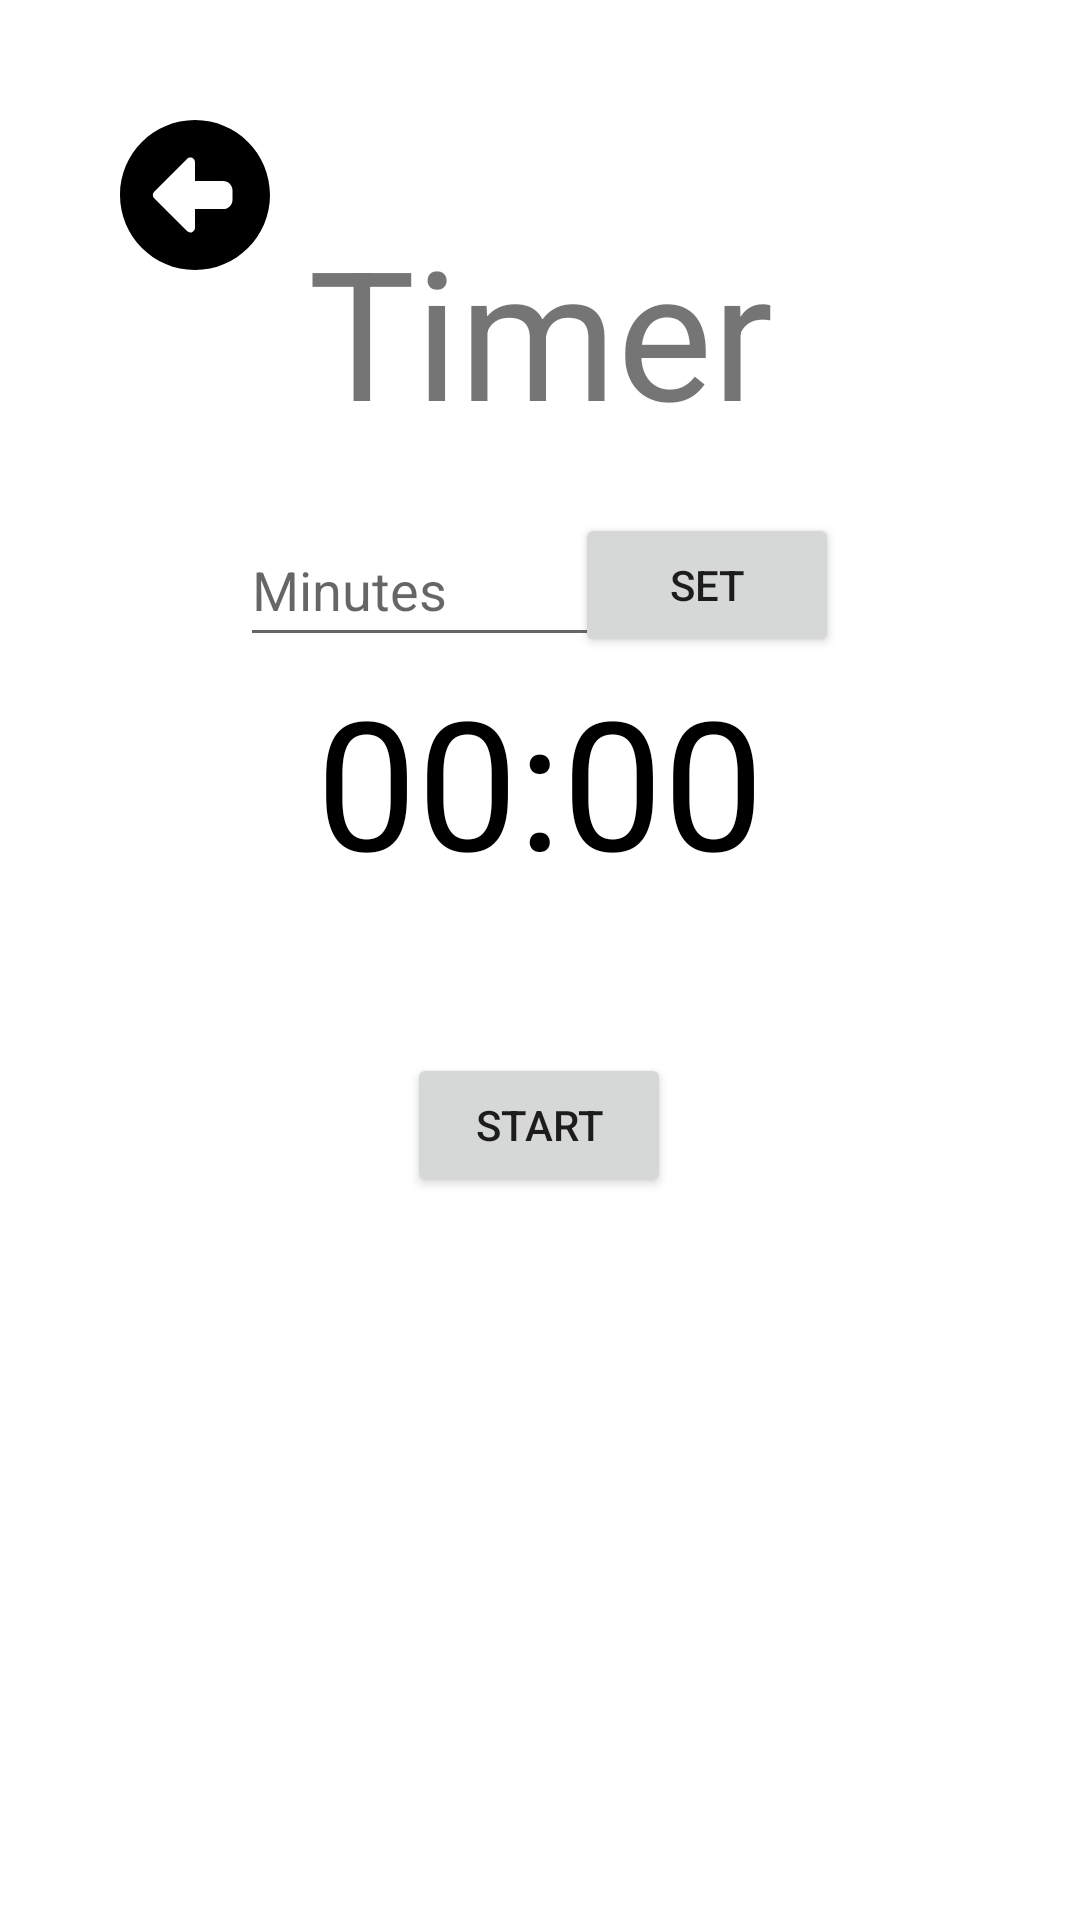

Named icons in this screenshot (1080x1920) and their bounding boxes, (x1, y1, x2, y2):
Back Button: (120, 120, 270, 270)
